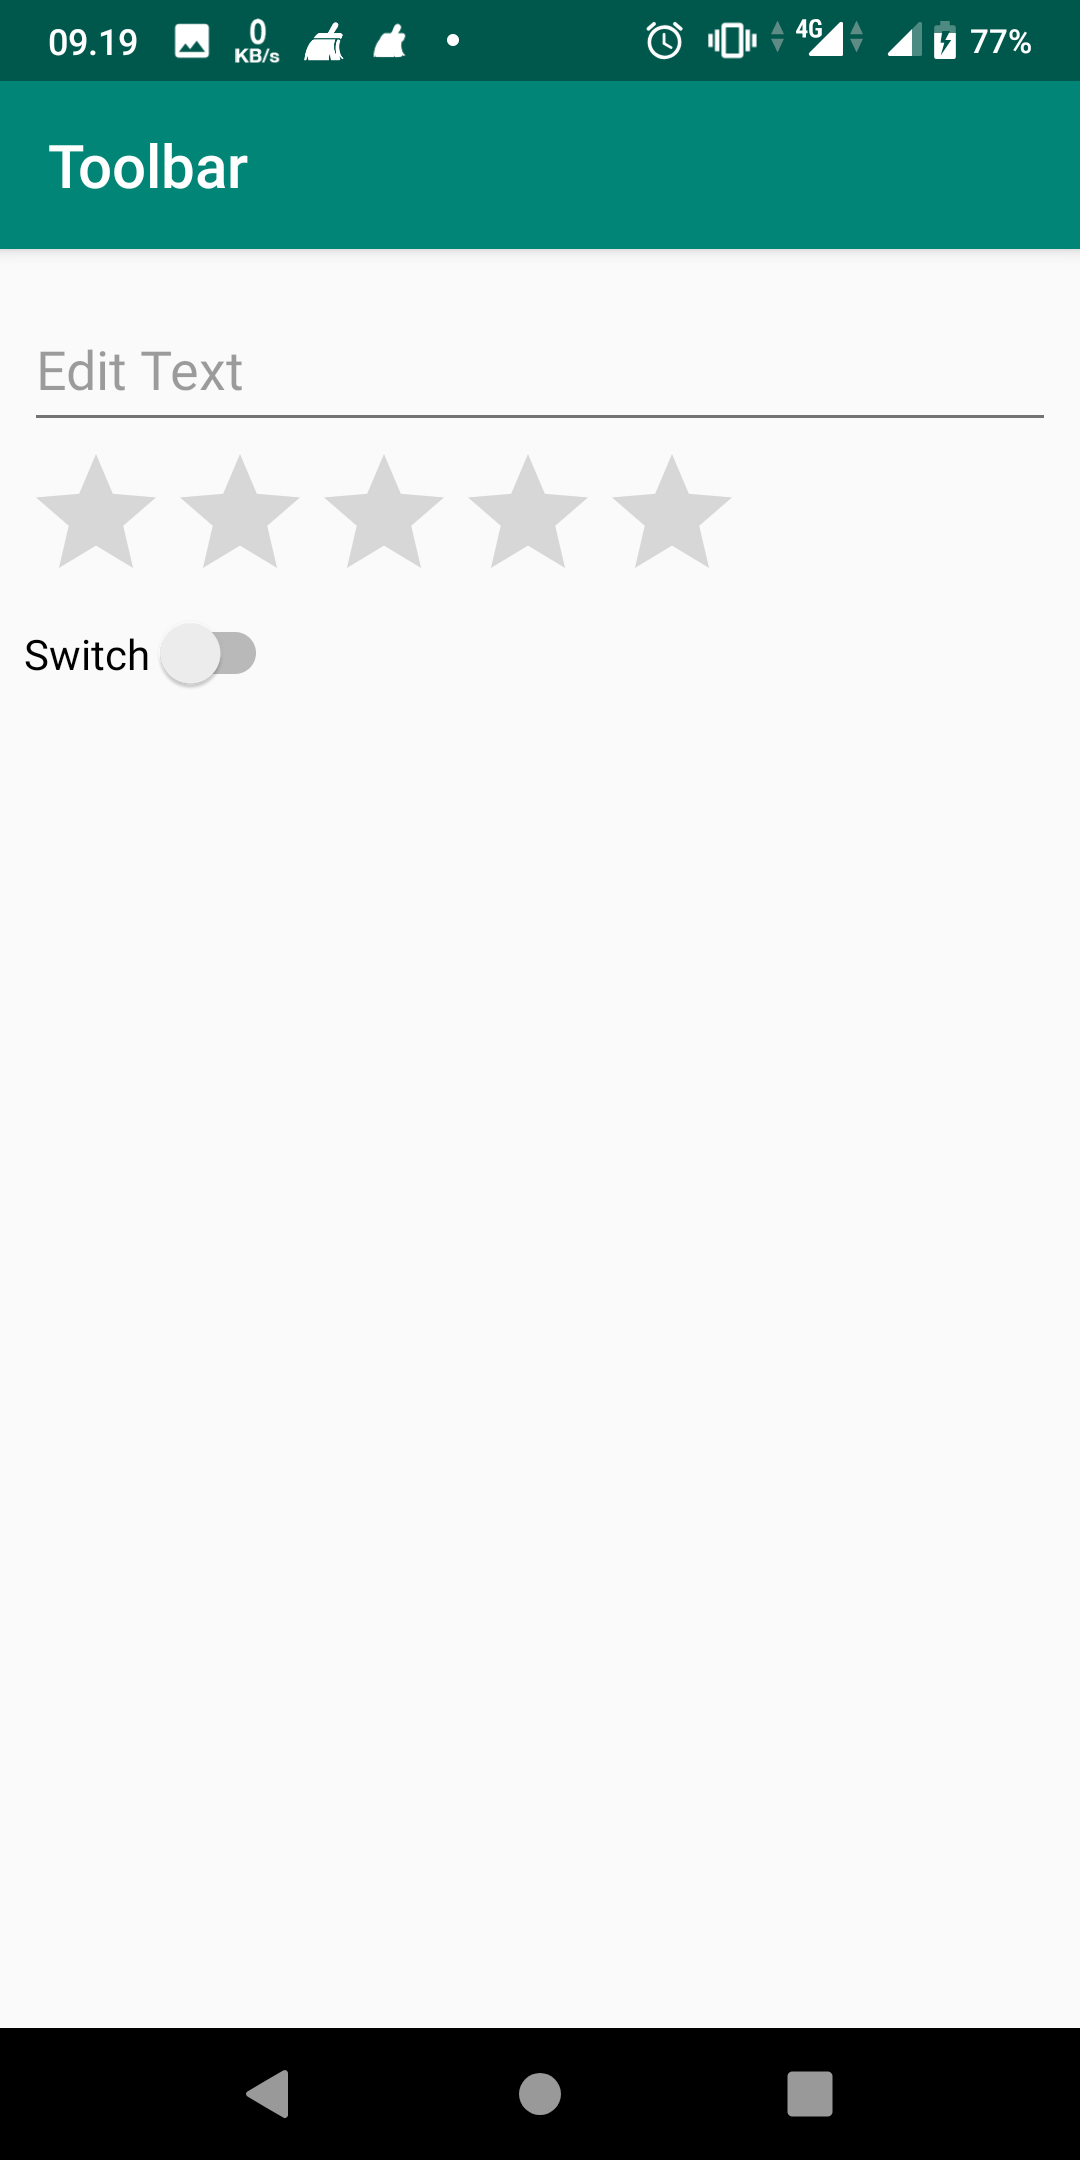editText: (28, 325, 1061, 428)
ratingBar: (28, 448, 741, 570)
switch: (10, 623, 267, 690)
toolbar: (3, 83, 1080, 247)
